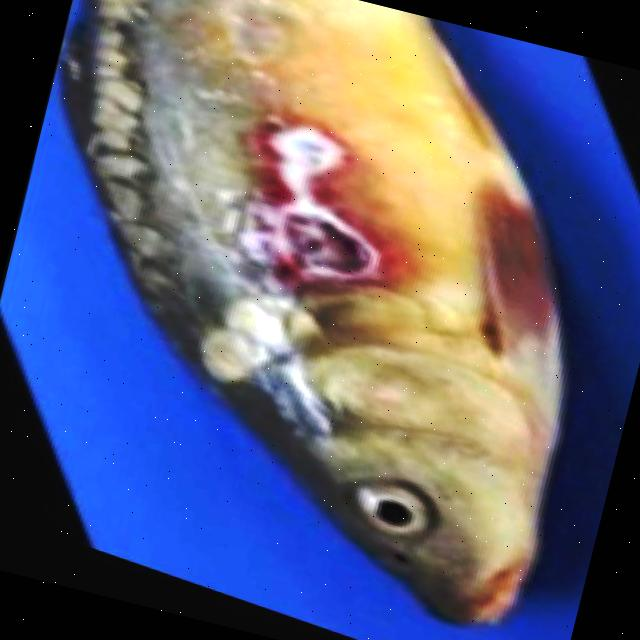Columnaris Disease: (64, 0, 563, 625)
